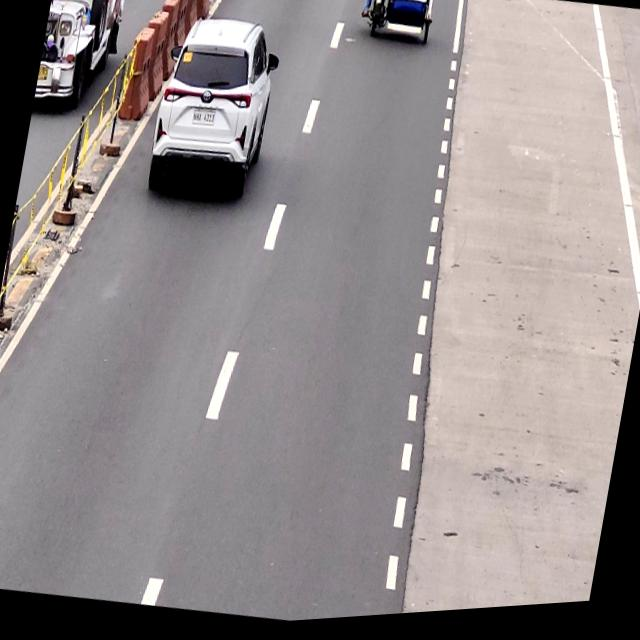Car: (146, 12, 282, 203)
License-Plate: (188, 108, 217, 132)
Tricycle: (362, 0, 438, 54)
